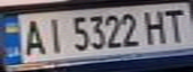2: (118, 10, 142, 48), (103, 11, 124, 50)
3: (87, 12, 109, 51)
5: (66, 12, 90, 52)
A: (18, 16, 48, 57)
H: (139, 7, 172, 45)
I: (42, 15, 66, 55)
T: (160, 6, 190, 43)
